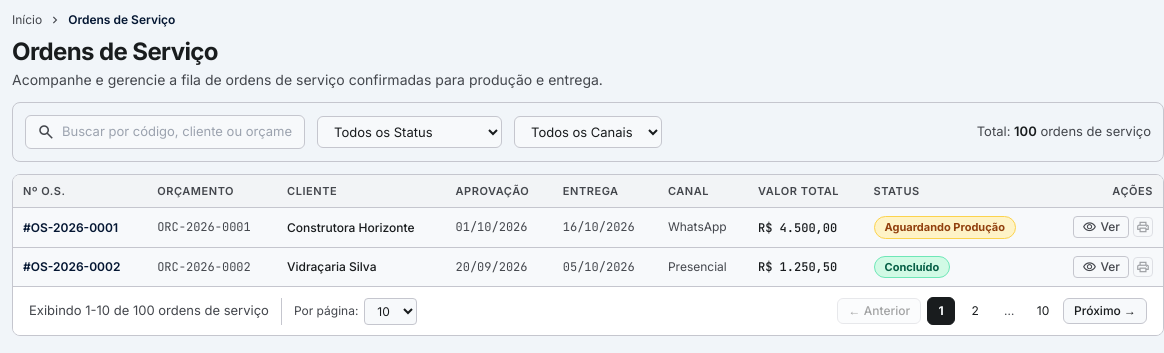
OrderListPage — [US-13.4] Listagem Paginada de Pedidos de Venda › deve ajustar a janela deslizante exibindo reticências no início e fim quando page > 4 (CA-4 da #412)
Click the button with aria-label "Próxima página": (1105, 311) [1063,298,1147,324]
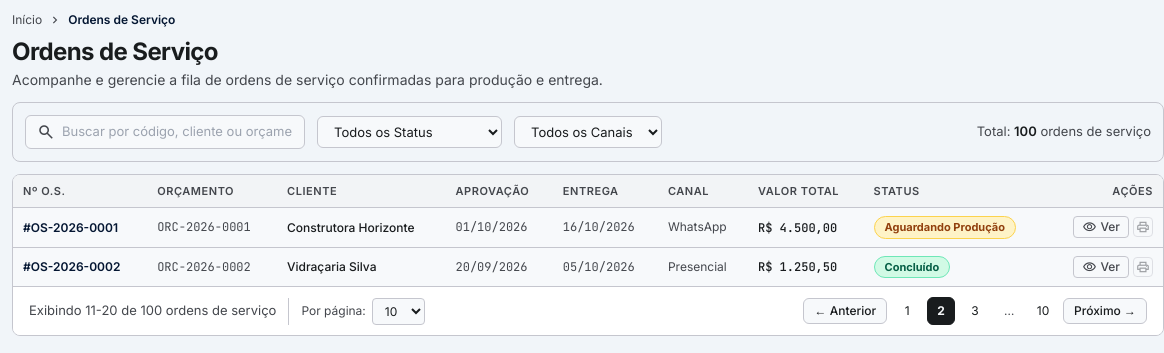
Click the button with aria-label "Próxima página": (1105, 311) [1063,298,1147,324]
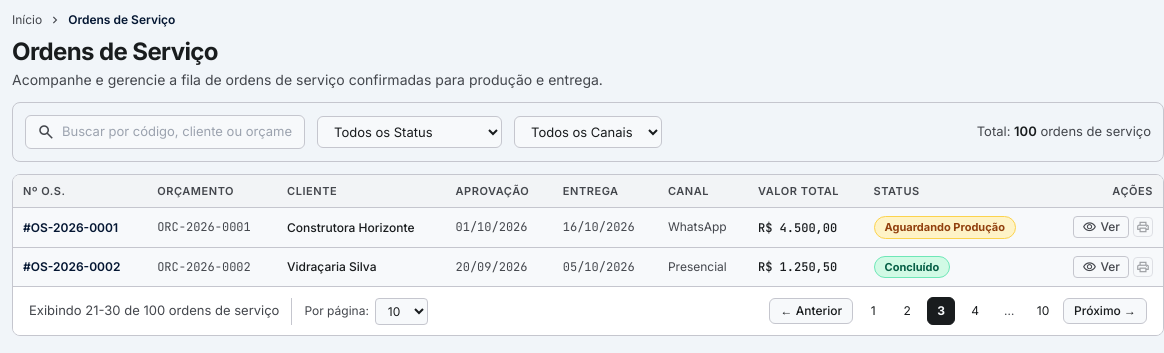
Click the button with aria-label "Próxima página": (1105, 311) [1063,298,1147,324]
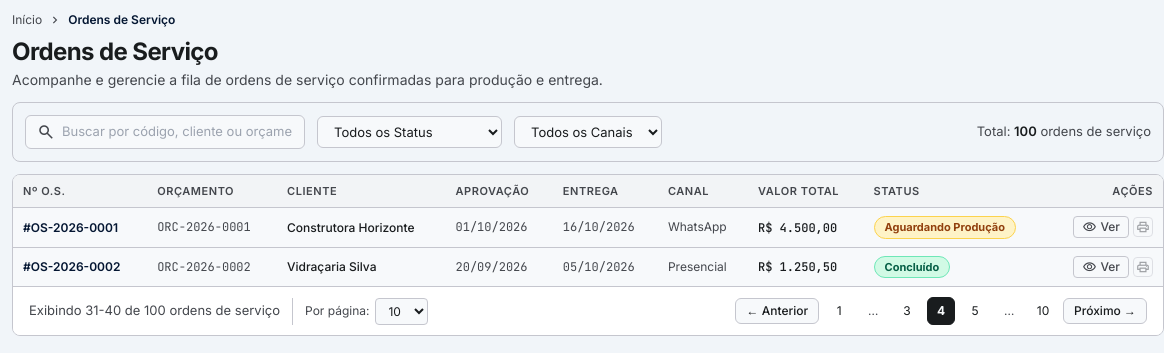
Click the button with aria-label "Próxima página": (1105, 311) [1063,298,1147,324]
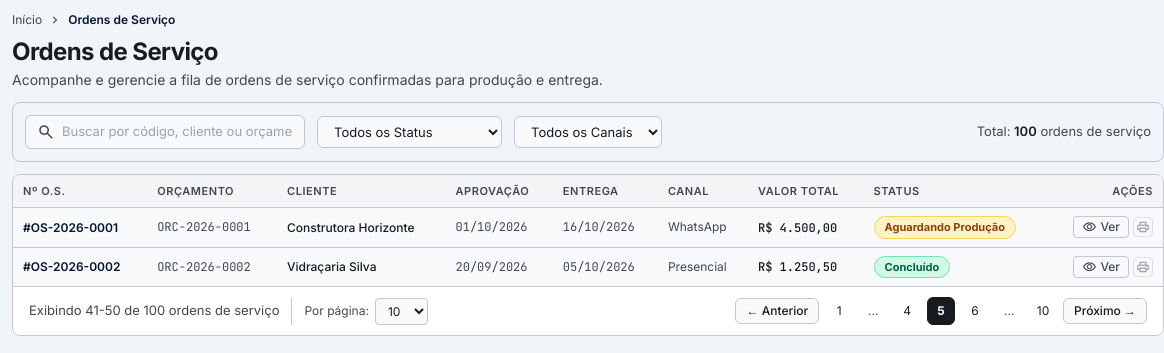
Click the button with aria-label "Próxima página": (1105, 311) [1063,298,1147,324]
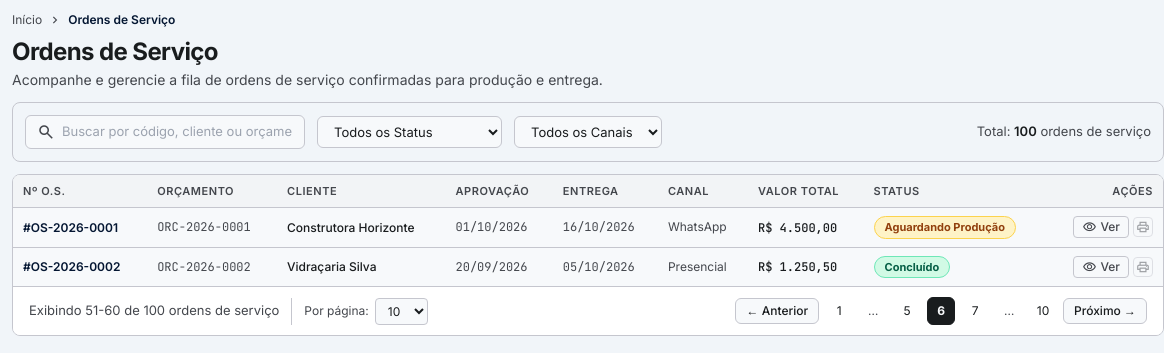
Now the text "…" is shown 2 times, box [868,303,878,318]; [1004,303,1014,318]
Now the button named "Ir para página 5" is shown, box [893,297,921,325]
Now the button named "Ir para página 7" is shown, box [961,297,989,325]
